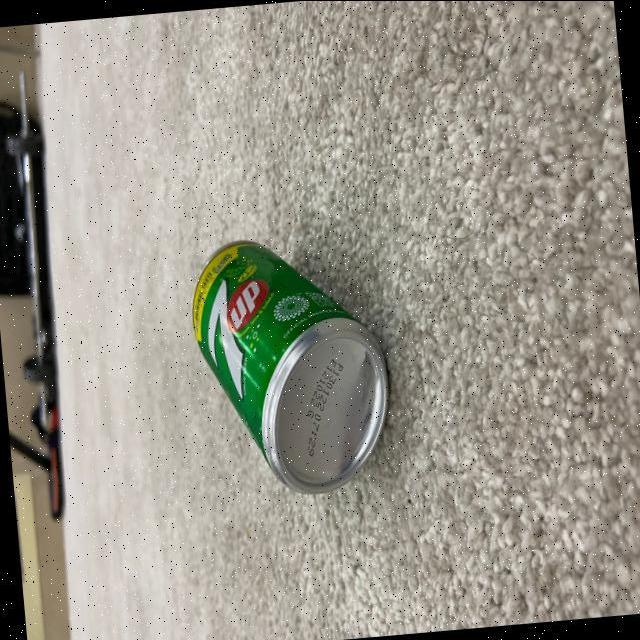can: (180, 224, 400, 506)
